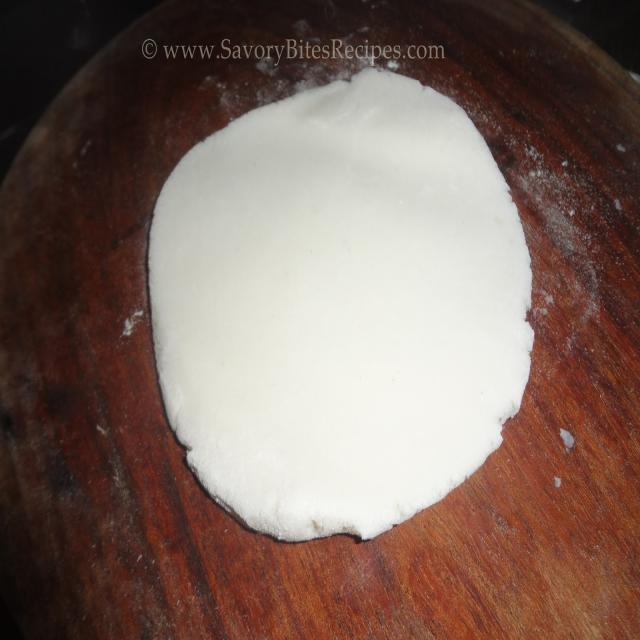ROTI: (149, 69, 534, 540)
